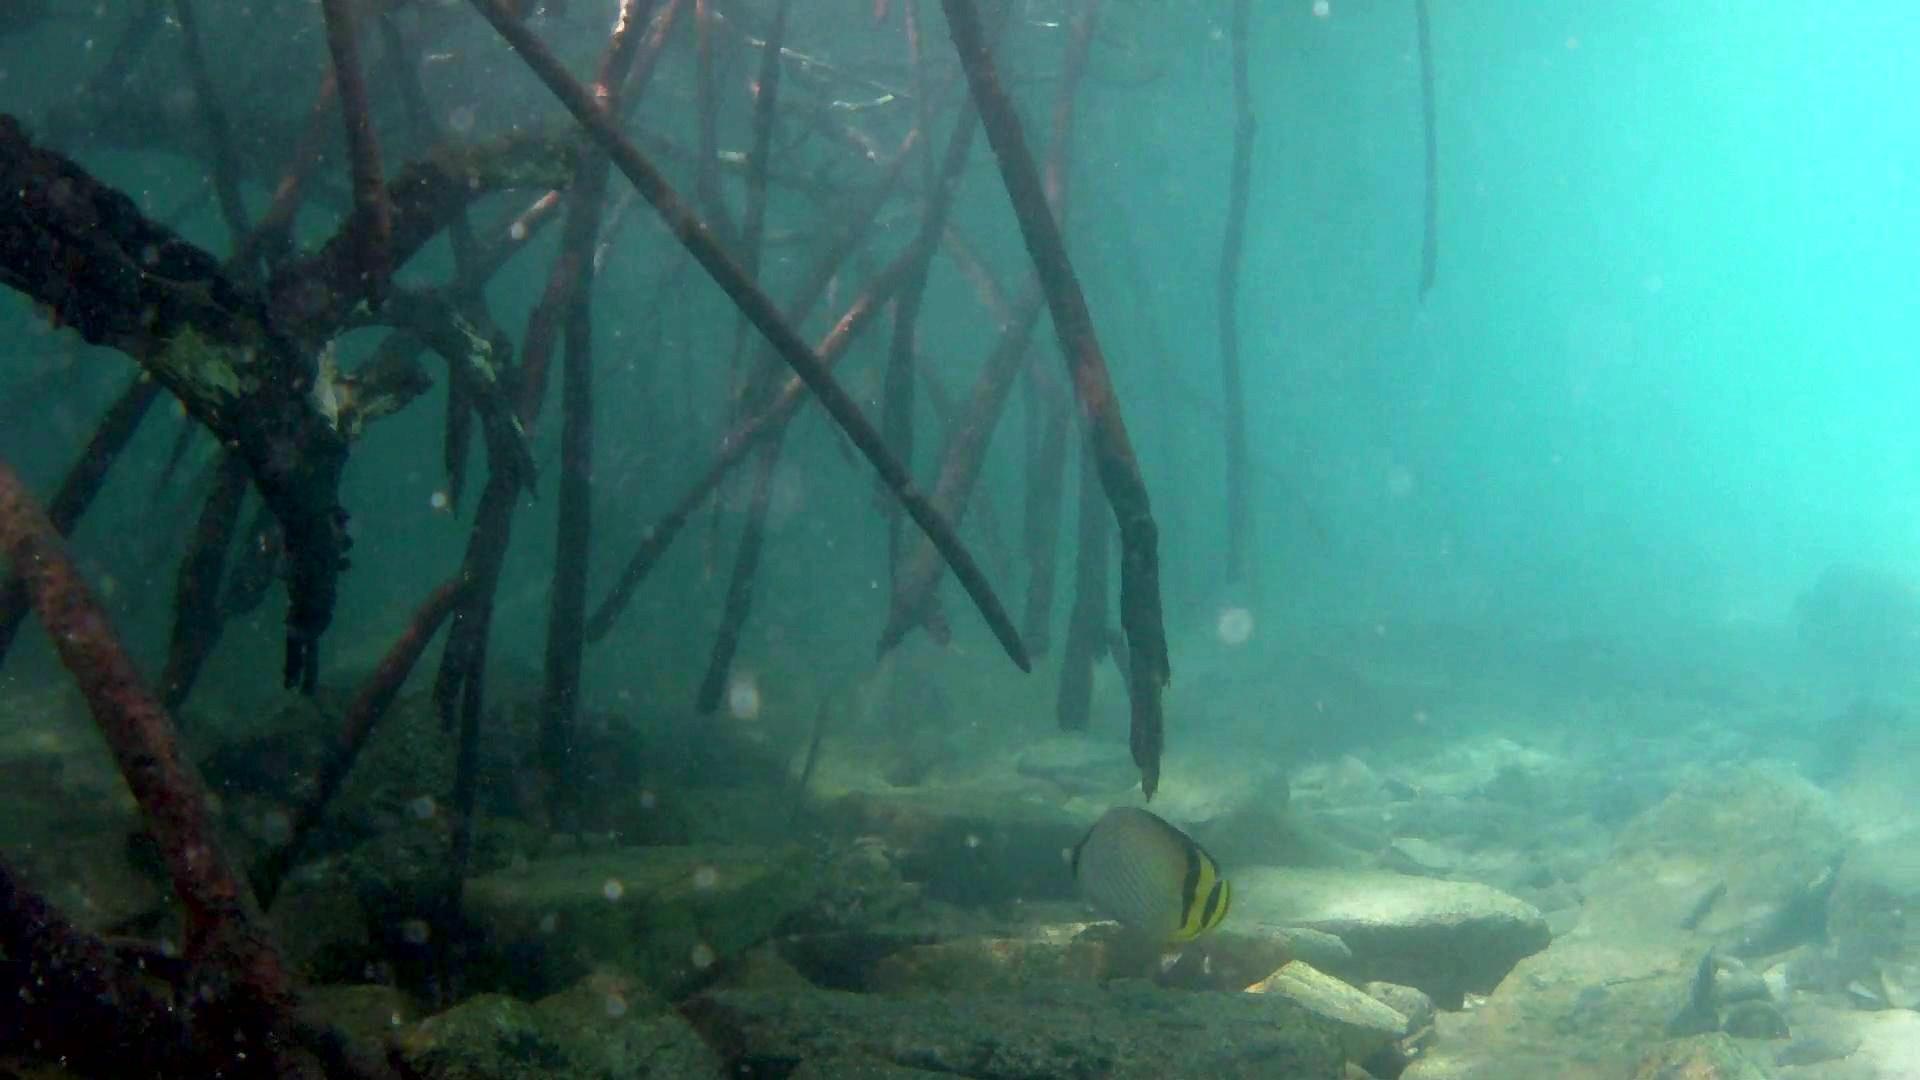chaetodon vagabundus: (1055, 803, 1238, 947)
